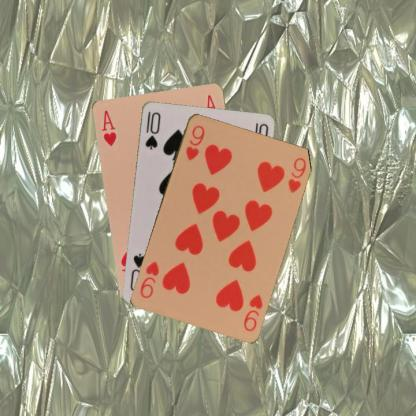10s: (142, 108, 162, 150)
9h: (182, 122, 206, 162), (241, 291, 264, 332)
Ah: (99, 107, 118, 147)
